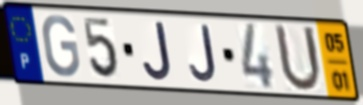4: (239, 21, 278, 92)
5: (81, 16, 121, 81)
G: (40, 13, 83, 79)
J: (141, 20, 175, 83), (187, 23, 219, 85)
U: (272, 21, 325, 95)
